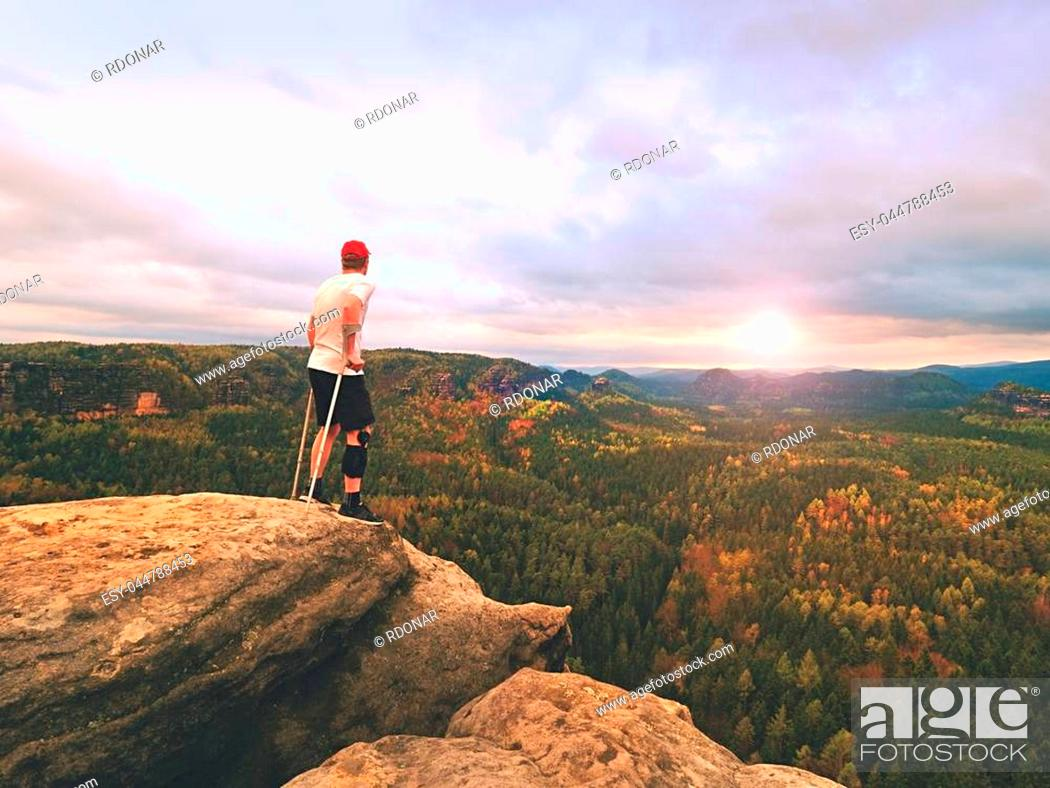crutches: (289, 240, 382, 523)
